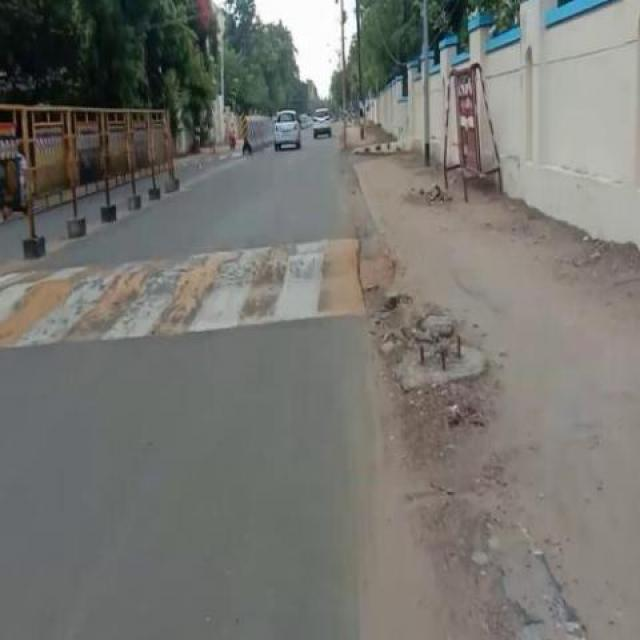Speed Bump: (2, 235, 370, 352)
